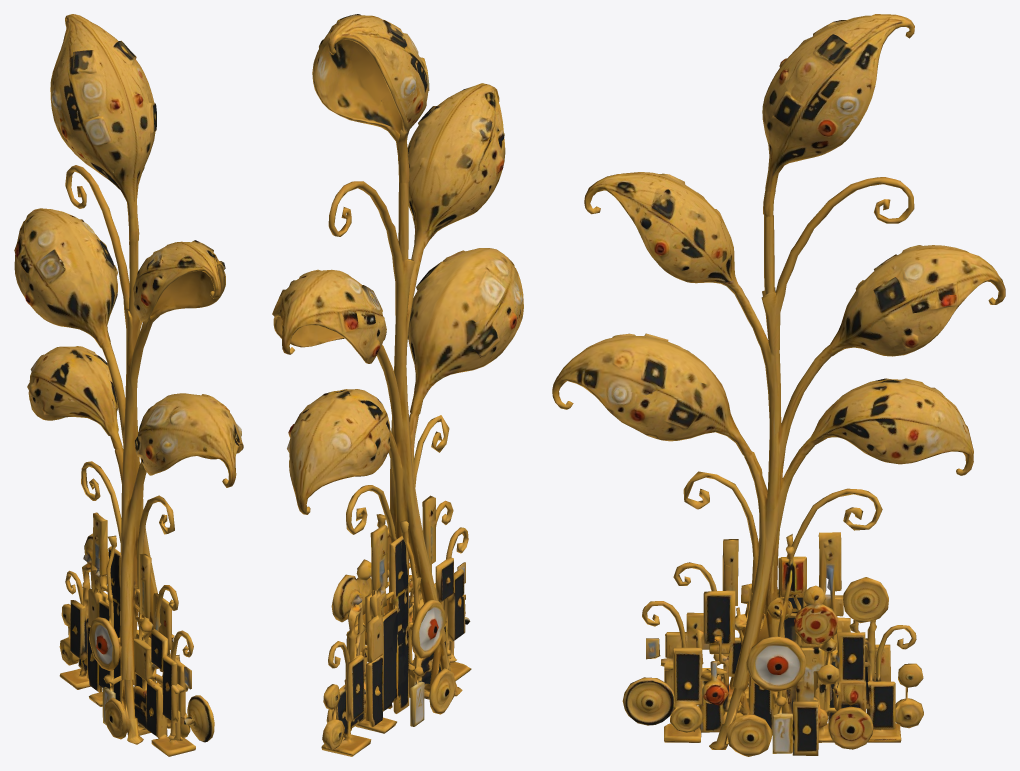
The model's file is golden+ornamental+tree+3d+model+1k.glb.
The picture shows the model from 3 angles, left to right: view 1: azimuth 30°, elevation 25°; view 2: azimuth 150°, elevation 25°; view 3: azimuth 270°, elevation 25°; orthographic projection. The views are drawn at different scales.
Parts seen in each view (by area): view 1: tripo_node_72871ca1-c261-4979-b55e-911ef0f59fd6; view 2: tripo_node_72871ca1-c261-4979-b55e-911ef0f59fd6; view 3: tripo_node_72871ca1-c261-4979-b55e-911ef0f59fd6.
Boxes of the visible parts, x1,y1,x2,y2 form: tripo_node_72871ca1-c261-4979-b55e-911ef0f59fd6: (14, 14, 243, 756); tripo_node_72871ca1-c261-4979-b55e-911ef0f59fd6: (272, 14, 523, 756); tripo_node_72871ca1-c261-4979-b55e-911ef0f59fd6: (552, 14, 1005, 756).
Size of the model in its own units: 0.1401 by 1 by 0.5648.
Materials: 1 (1 with a texture image).
